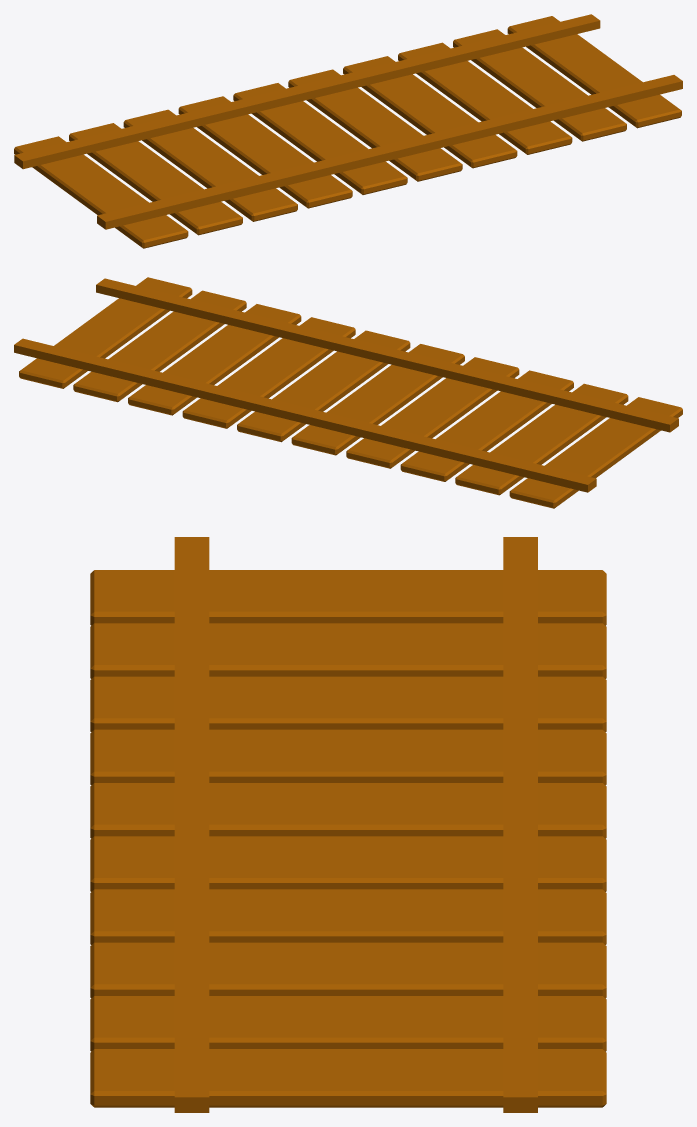
The model's file is Zabor.fbx.
The picture shows the model from 3 angles, top to bottom: view 1: azimuth 30°, elevation 25°; view 2: azimuth 150°, elevation 25°; view 3: azimuth 270°, elevation 25°; orthographic projection. The views are drawn at different scales.
Parts seen in each view (by area): view 1: Cube, Cube.002; view 2: Cube, Cube.002; view 3: Cube, Cube.002.
Boxes of the visible parts, left/top/right/bottom form: Cube: left=14, top=16, right=681, bottom=248; Cube.002: left=14, top=14, right=682, bottom=229; Cube: left=19, top=277, right=682, bottom=508; Cube.002: left=14, top=278, right=678, bottom=492; Cube: left=90, top=570, right=606, bottom=1107; Cube.002: left=174, top=537, right=537, bottom=1112.
Bounding box in the file's own units: 682 × 18.48 × 266.
